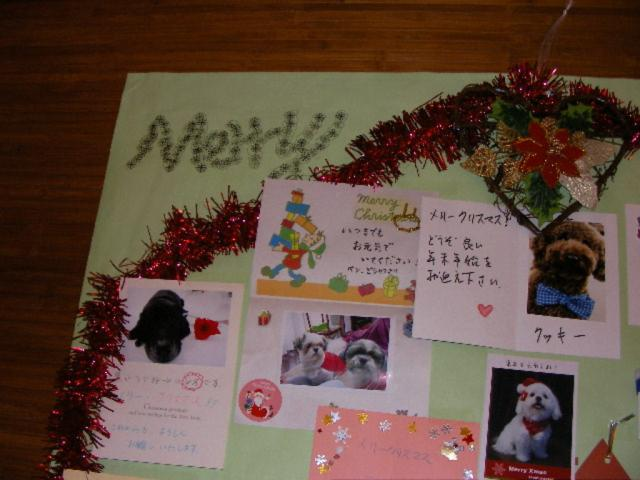Dog: (527, 221, 606, 323), (494, 378, 563, 464), (122, 292, 192, 351), (335, 338, 386, 392), (281, 333, 333, 382)
